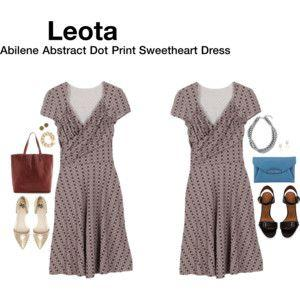C_dress: (167, 70, 270, 287), (35, 75, 138, 281)
S_heels: (258, 182, 300, 238), (12, 193, 50, 250)
